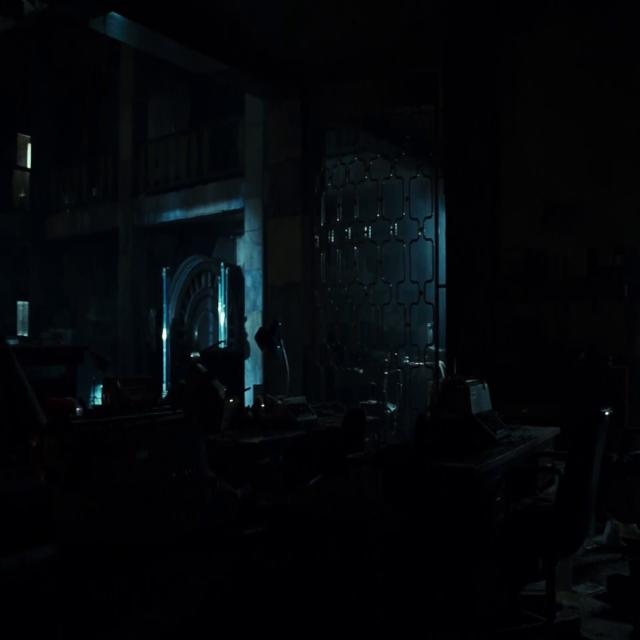Table: (393, 389, 573, 619), (204, 397, 389, 538), (32, 387, 227, 503), (2, 322, 98, 422)
chair: (517, 369, 617, 633), (330, 388, 384, 522), (334, 398, 381, 496)
